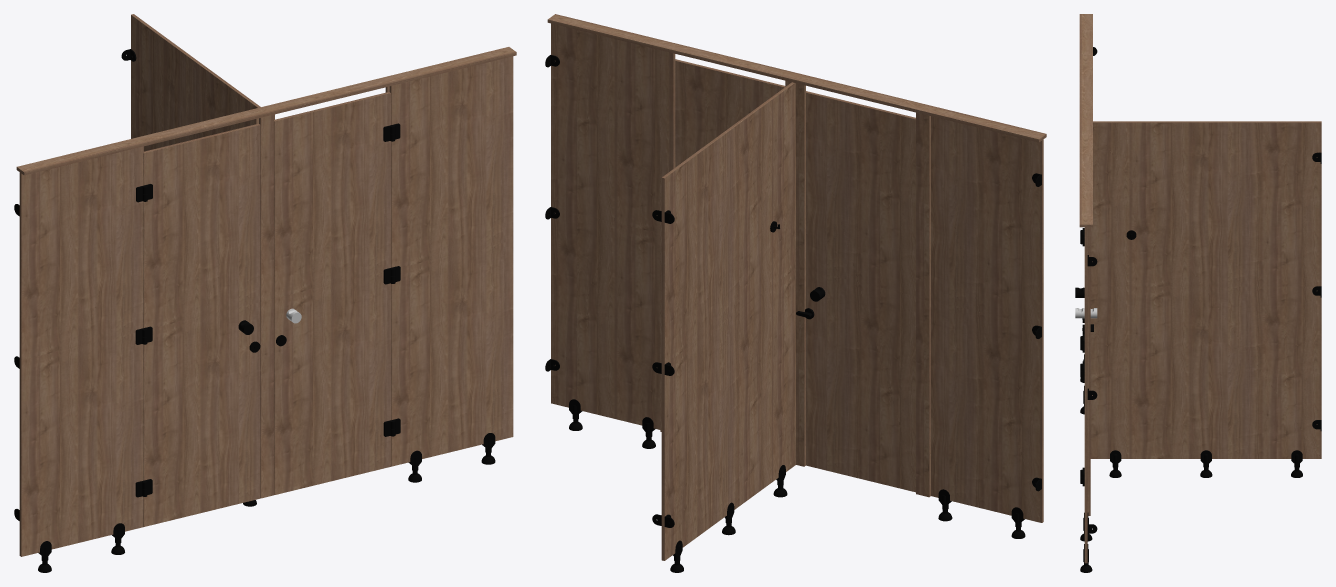
3 views of the same model, side by side, from view 1: azimuth 30°, elevation 25°; view 2: azimuth 150°, elevation 25°; view 3: azimuth 270°, elevation 25° (orthographic). The views are drawn at different scales.
Visible parts, largest first — view 1: Node_149D3CF8, Node_14BFE908, Node_14C008C0, Node_14C04CB8, Node_14C0D6F0, Node_14BFA510, Node_14C090B0, Node_149DB750, Node_149DAE40; view 2: Node_14C0D6F0, Node_149D3870, Node_14BFC4C8, Node_14C070F8, Node_14BFDFF8, Node_14C09538, Node_14C090B0, Node_14BFA088, Node_14C01658, Node_14C055C8, Node_14C0F6A8, Node_149DAE40 (+2 smaller); view 3: Node_14C0CDE0, Node_14C090B0, Node_14C023F0, Node_14BFB730, Node_14C0C958.
Boxes of the visible parts, x1,y1,x2,y2 form: Node_149D3CF8: [21, 146, 143, 556]; Node_14BFE908: [391, 56, 513, 466]; Node_14C008C0: [274, 93, 390, 494]; Node_14C04CB8: [144, 125, 260, 526]; Node_14C0D6F0: [131, 15, 257, 151]; Node_14BFA510: [260, 114, 273, 498]; Node_14C090B0: [17, 47, 516, 172]; Node_149DB750: [24, 52, 516, 175]; Node_149DAE40: [19, 172, 21, 556]; Node_14C0D6F0: [664, 83, 795, 560]; Node_149D3870: [931, 116, 1041, 522]; Node_14BFC4C8: [551, 23, 660, 429]; Node_14C070F8: [806, 92, 915, 492]; Node_14BFDFF8: [675, 61, 784, 167]; Node_14C09538: [916, 112, 929, 497]; Node_14C090B0: [548, 14, 1045, 139]; Node_14BFA088: [785, 80, 804, 466]; Node_14C01658: [660, 50, 673, 431]; Node_14C055C8: [547, 19, 1038, 142]; Node_14C0F6A8: [661, 178, 664, 560]; Node_149DAE40: [1042, 139, 1043, 522]; Node_14C0CDE0: [1090, 122, 1321, 458]; Node_14C090B0: [1079, 14, 1092, 224]; Node_14C023F0: [1084, 227, 1087, 563]; Node_14BFB730: [1087, 227, 1090, 515]; Node_14C0C958: [1093, 121, 1321, 122].
Size of the model in its own units: 2.62 by 2.07 by 1.3.
